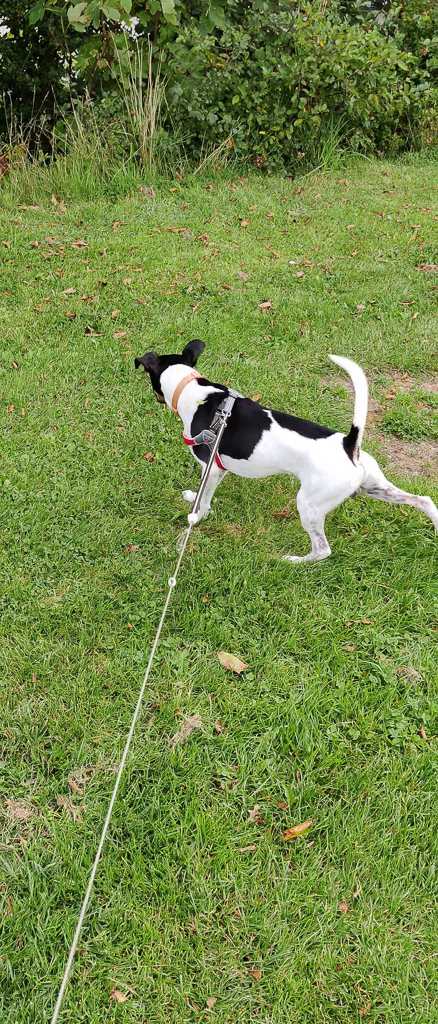Dog: (123, 331, 438, 569)
